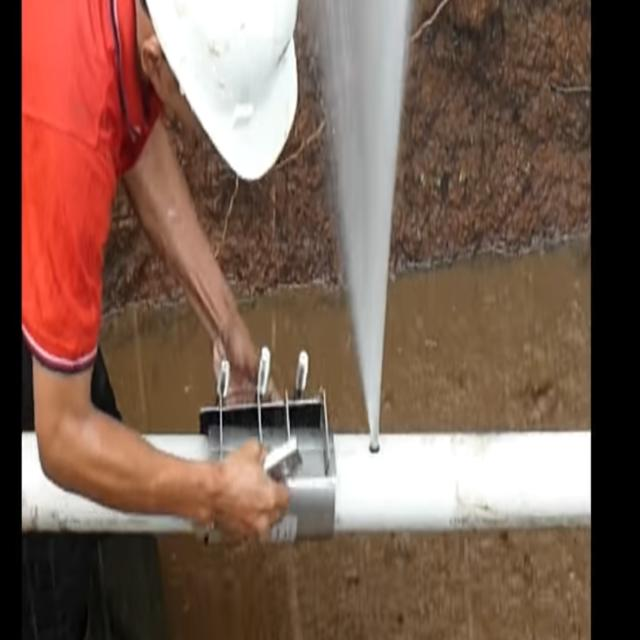leak: (316, 0, 410, 451)
